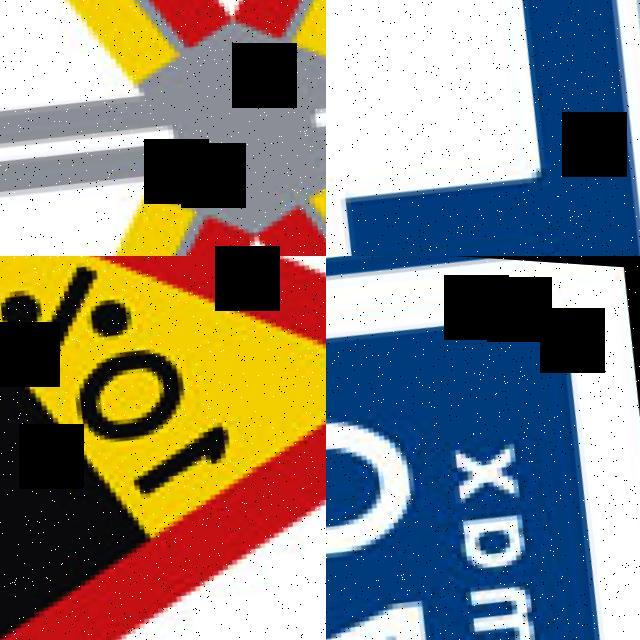102: (326, 256, 640, 640)
62: (0, 0, 326, 256)
69: (326, 0, 640, 256)
Steep downhill: (0, 256, 326, 640)
